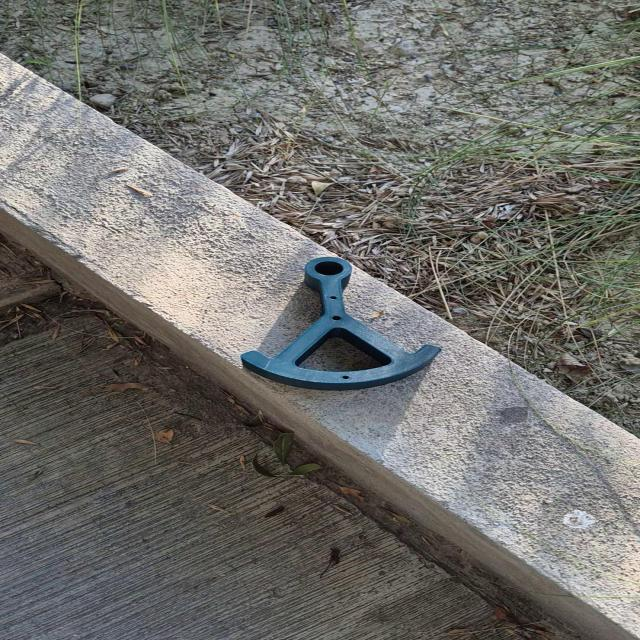haptic: (239, 256, 443, 392)
